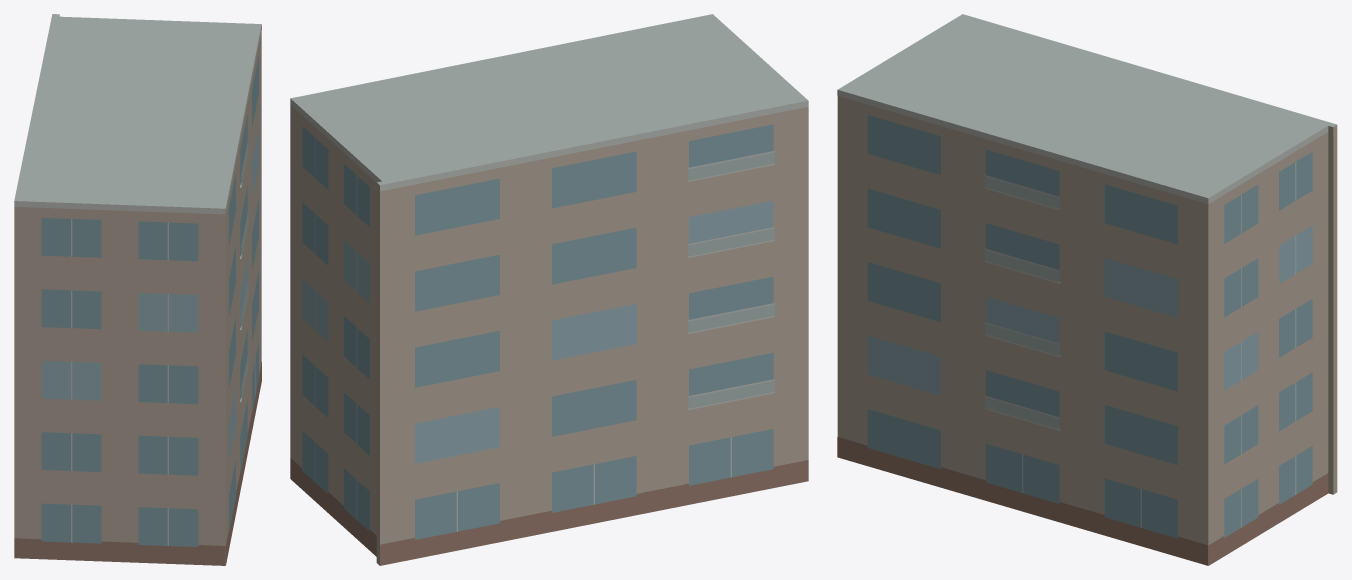
The model's file is survey-upis-32999920.glb.
3 renders of one model, left to right at view 1: azimuth 30°, elevation 25°; view 2: azimuth 150°, elevation 25°; view 3: azimuth 270°, elevation 25°, orthographic. The views are drawn at different scales.
Visible parts, largest first — view 1: survey-upis-32999920.tmp; view 2: survey-upis-32999920.tmp; view 3: survey-upis-32999920.tmp.
Part boxes in pixels (left/top/right/bottom): survey-upis-32999920.tmp: left=14, top=14, right=261, bottom=565; survey-upis-32999920.tmp: left=290, top=14, right=808, bottom=565; survey-upis-32999920.tmp: left=837, top=14, right=1337, bottom=565.
Size of the model in its own units: 16.24 by 15.1 by 18.62.
